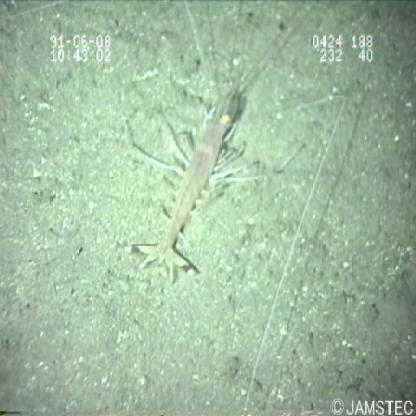Bio: (114, 1, 347, 288)
